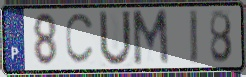8: (31, 12, 59, 68), (208, 9, 234, 65)
C: (64, 12, 97, 67)
I: (187, 9, 200, 67)
M: (130, 7, 171, 69)
U: (97, 8, 134, 69)
